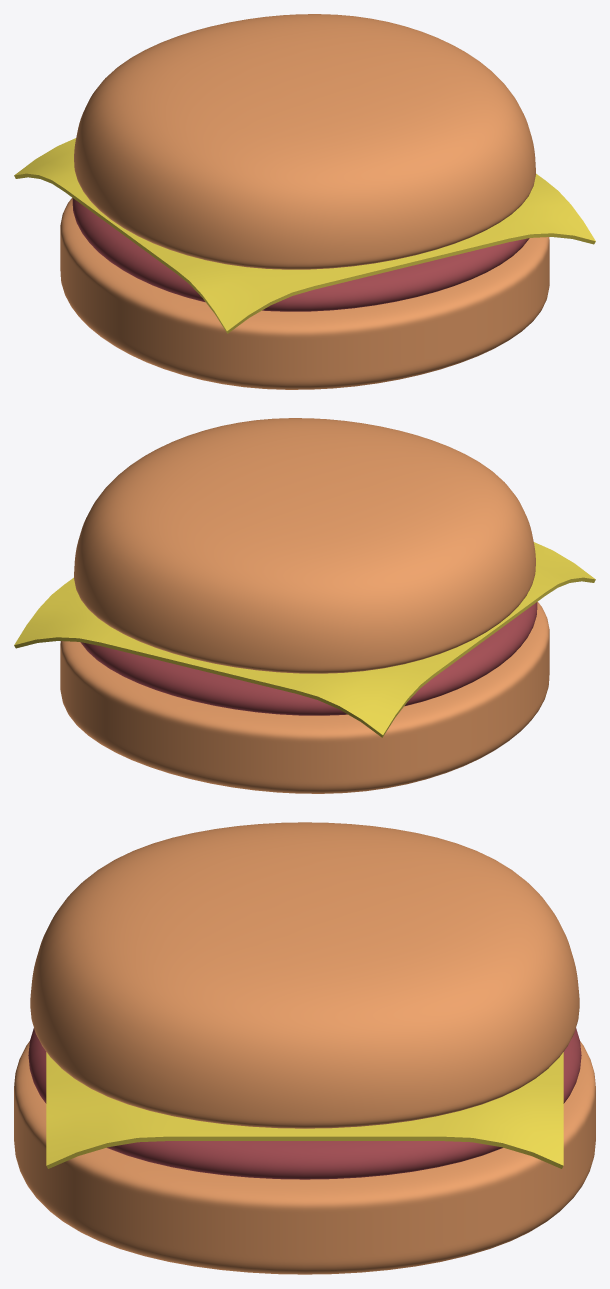
The model's file is hamburger.glb.
3 views of the same model, one above another, from view 1: azimuth 30°, elevation 25°; view 2: azimuth 150°, elevation 25°; view 3: azimuth 270°, elevation 25° (orthographic). The views are drawn at different scales.
Visible parts, largest first — view 1: Cube.002, Cube, Plane, Cube.001; view 2: Cube.002, Cube, Plane, Cube.001; view 3: Cube.002, Cube, Plane, Cube.001.
Boxes of the visible parts, left/top/right/bottom form: Cube.002: left=74, top=14, right=535, bottom=269; Cube: left=60, top=197, right=549, bottom=389; Plane: left=14, top=138, right=595, bottom=333; Cube.001: left=72, top=198, right=529, bottom=311; Cube.002: left=74, top=418, right=535, bottom=673; Cube: left=60, top=601, right=549, bottom=793; Plane: left=14, top=542, right=595, bottom=737; Cube.001: left=80, top=602, right=537, bottom=715; Cube.002: left=30, top=822, right=579, bottom=1128; Cube: left=14, top=1041, right=595, bottom=1274; Plane: left=46, top=1052, right=563, bottom=1168; Cube.001: left=28, top=1028, right=581, bottom=1179.
Size of the model in its own units: 9.03 by 4.8 by 9.03.
